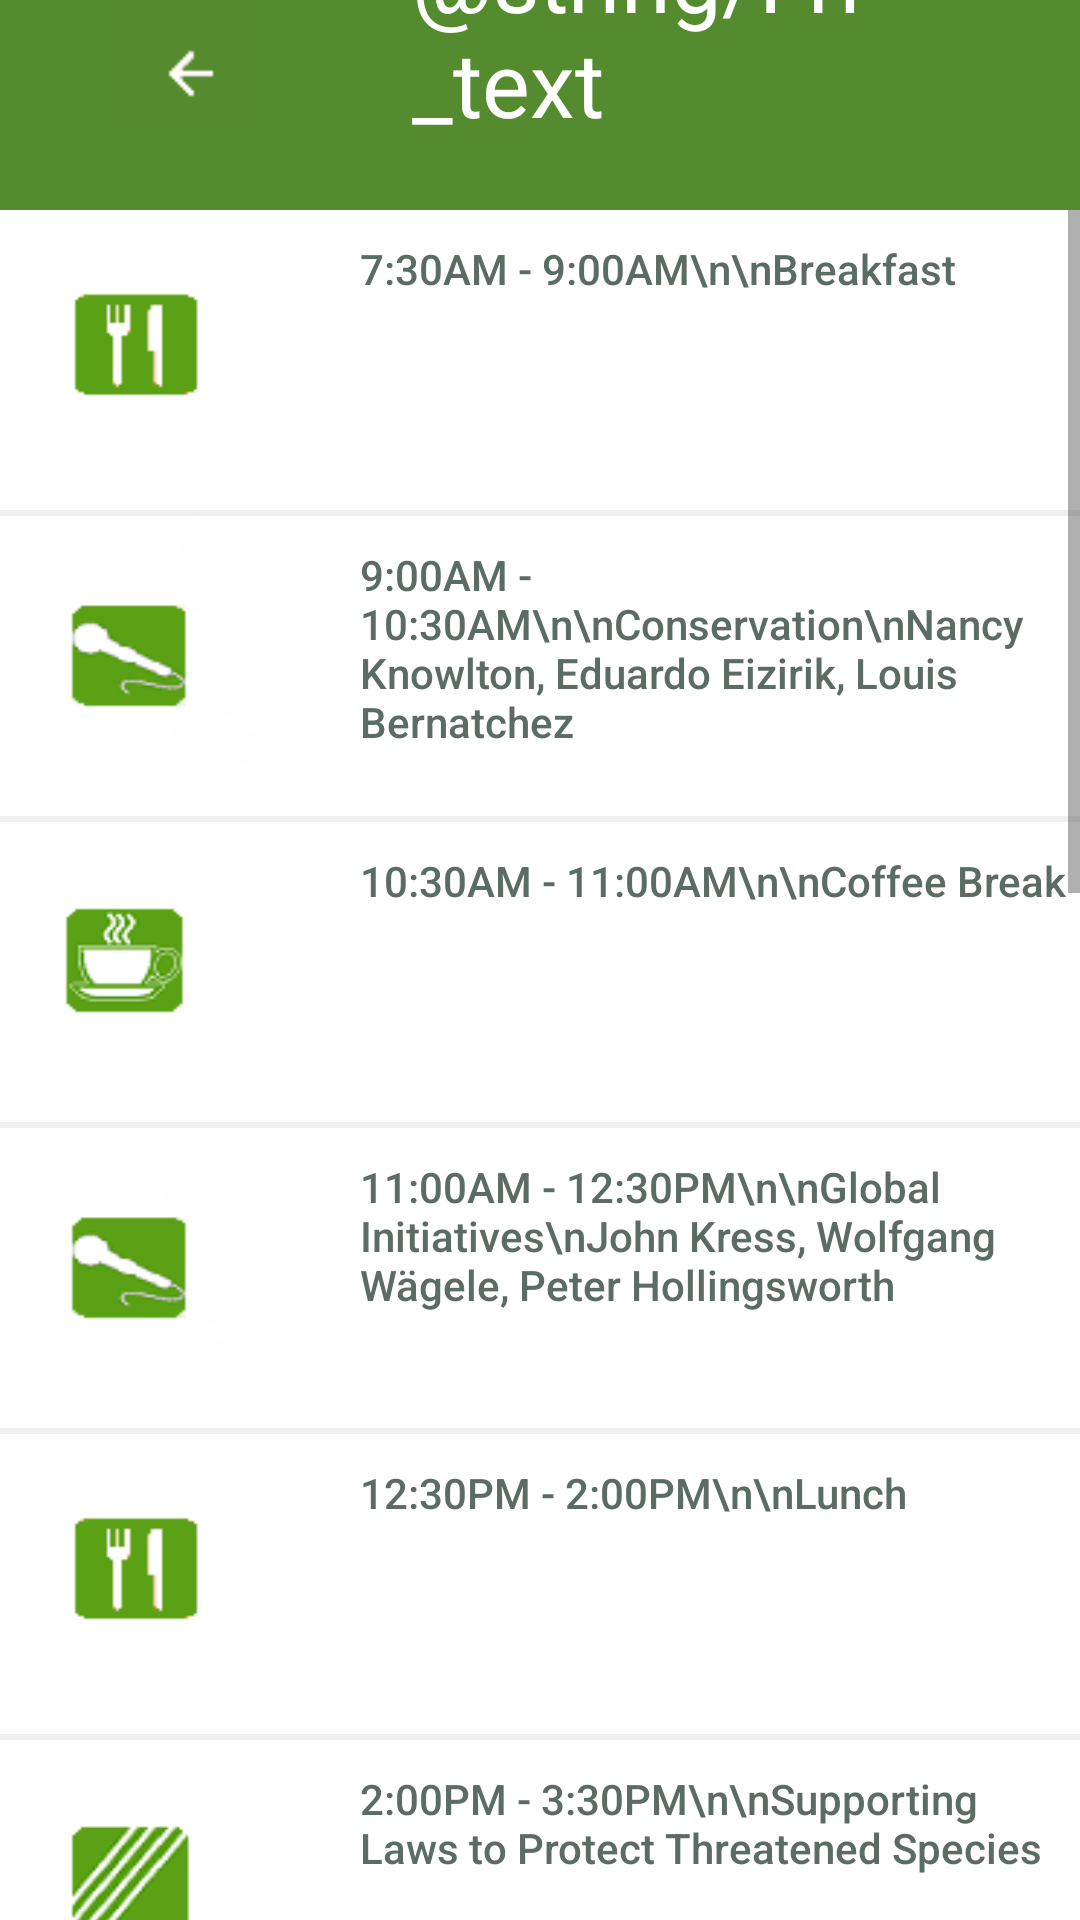

Icon click points for this 1080x1920 phone screenshot, format [x,y]:
left: [191,73]
